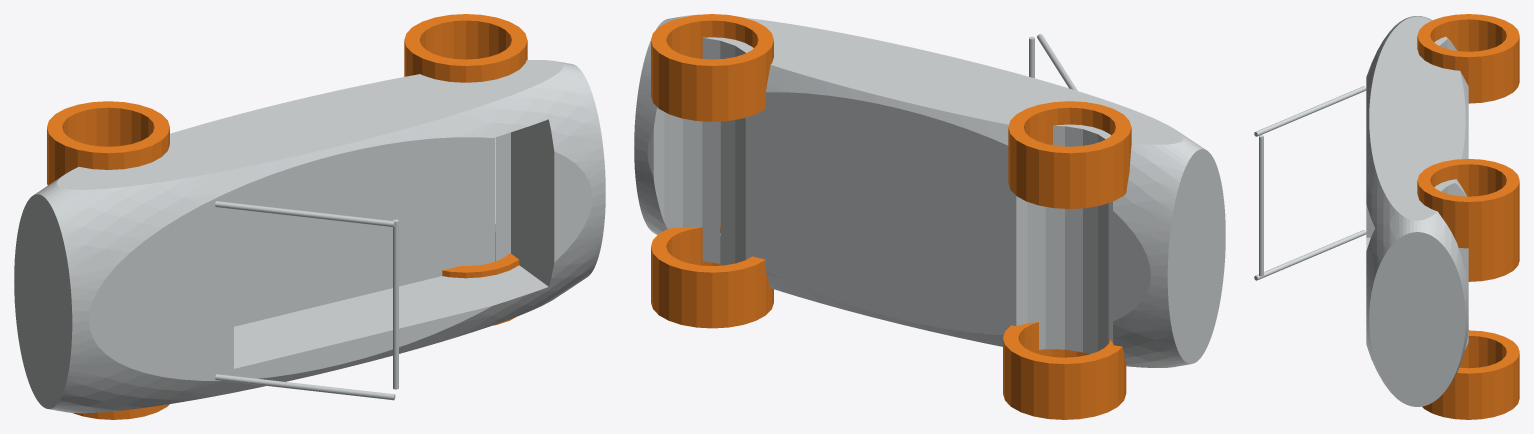
The model's file is tinker.obj.
3 renders of one model, left to right at view 1: azimuth 30°, elevation 25°; view 2: azimuth 150°, elevation 25°; view 3: azimuth 270°, elevation 25°, orthographic. The views are drawn at different scales.
Visible parts, largest first — view 1: group_0_14541540, group_0_16089887; view 2: group_0_14541540, group_0_16089887; view 3: group_0_14541540, group_0_16089887.
Part boxes in pixels (x1,y1,x2,y2): group_0_14541540: (14,60,605,413); group_0_16089887: (47,14,527,419); group_0_14541540: (634,15,1225,367); group_0_16089887: (651,14,1131,419); group_0_14541540: (1254,16,1468,406); group_0_16089887: (1417,14,1519,419).
Size of the model in its own units: 100 by 48 by 51.92.
